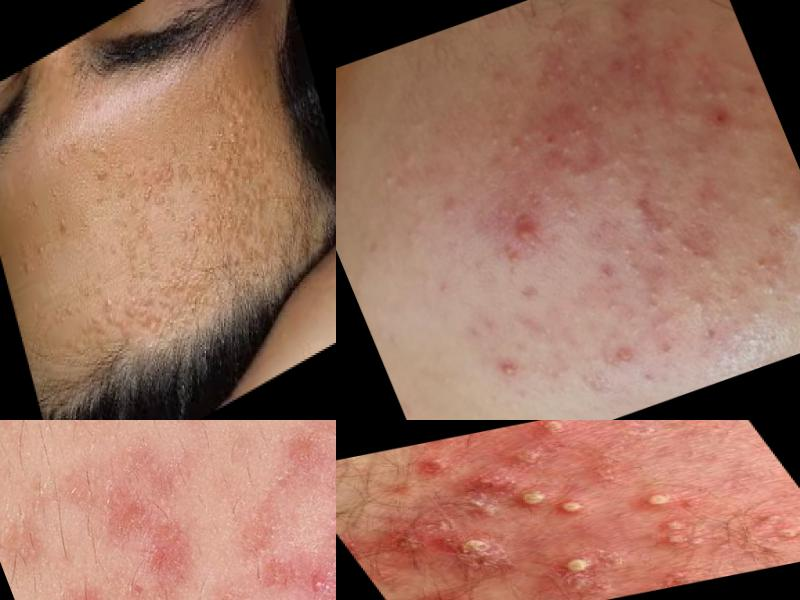flat_wart: (204, 145, 283, 257), (91, 271, 170, 370), (198, 76, 276, 174), (149, 204, 218, 295), (131, 149, 196, 220)
folliculitis: (625, 513, 720, 560), (536, 544, 626, 585), (622, 485, 701, 520), (743, 506, 800, 548), (503, 483, 564, 513), (549, 493, 603, 522), (531, 421, 578, 437)
keloid: (278, 515, 337, 600)
papular: (494, 203, 560, 257), (388, 449, 471, 485), (610, 190, 664, 229)
purulent: (482, 343, 527, 387)
sebo-crystan-conglo: (424, 524, 534, 586)
whitehead: (722, 247, 800, 324), (530, 7, 581, 58), (672, 280, 720, 327), (369, 162, 414, 201), (698, 64, 735, 109), (671, 229, 710, 266), (606, 341, 646, 376), (613, 237, 646, 276), (741, 302, 775, 336), (581, 368, 615, 402), (579, 92, 615, 124), (592, 151, 634, 177), (564, 63, 598, 93), (586, 67, 615, 102), (679, 132, 712, 162), (755, 179, 785, 208), (439, 193, 468, 223), (565, 162, 598, 188), (642, 284, 671, 313), (647, 240, 674, 267), (626, 51, 654, 76), (623, 123, 650, 147), (498, 106, 526, 128), (603, 297, 625, 320), (486, 128, 506, 152), (558, 142, 580, 163), (721, 178, 739, 202), (507, 138, 526, 158)
